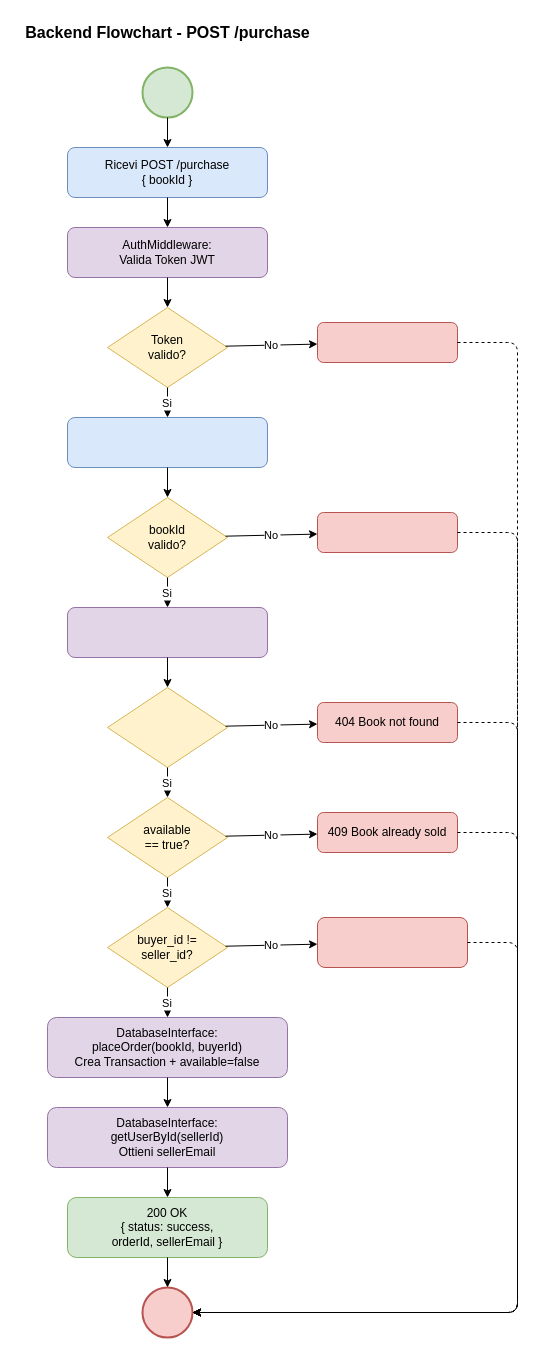
The diagram is 543 pixels wide and 1355 high, and some of its shapes have lost their labels. The shapes that lost their labels are listed below. From the top down, each one's centre as x and y in pixels, then its label:
the point at 387,342: 401 Unauthorized
the point at 167,442: Estrai buyer_id dal JWT (sub claim)
the point at 387,532: 400 Invalid input
the point at 167,632: DatabaseInterface: getBookById(bookId)
the point at 167,727: Libro trovato?
the point at 392,942: 403 Cannot purchase your own book
